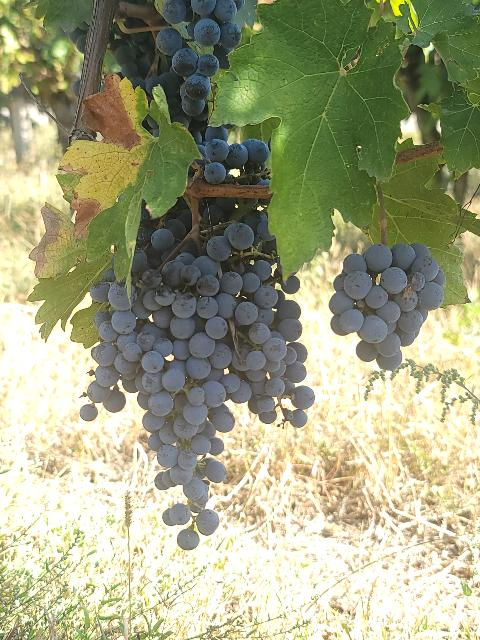grapes: (134, 240, 250, 530), (220, 260, 315, 428), (329, 242, 445, 370), (80, 269, 141, 421)
